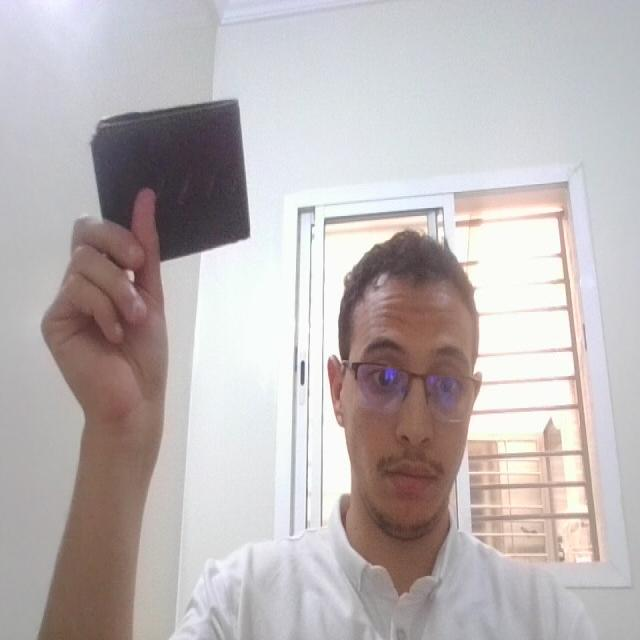wallet: (78, 94, 266, 278)
